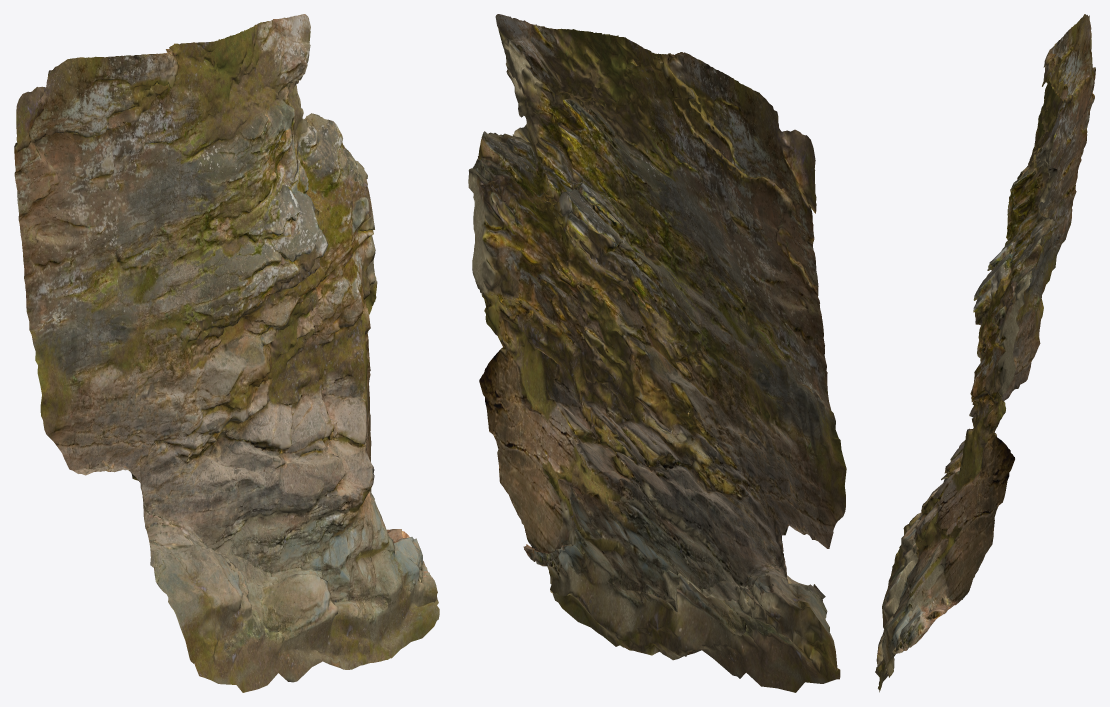
The model's file is cliff_rock_column.glb.
3 views of the same model, side by side, from view 1: azimuth 30°, elevation 25°; view 2: azimuth 150°, elevation 25°; view 3: azimuth 270°, elevation 25° (orthographic). The views are drawn at different scales.
Visible parts, largest first — view 1: rock_face_02; view 2: rock_face_02; view 3: rock_face_02.
Part boxes in pixels (x1=…): rock_face_02: x1=14, y1=14, x2=439, y2=692; rock_face_02: x1=468, y1=14, x2=846, y2=692; rock_face_02: x1=875, y1=14, x2=1095, y2=692.
Bounding box in the file's own units: 3.78 × 6.55 × 2.29.
Materials: 1 (1 with a texture image).
